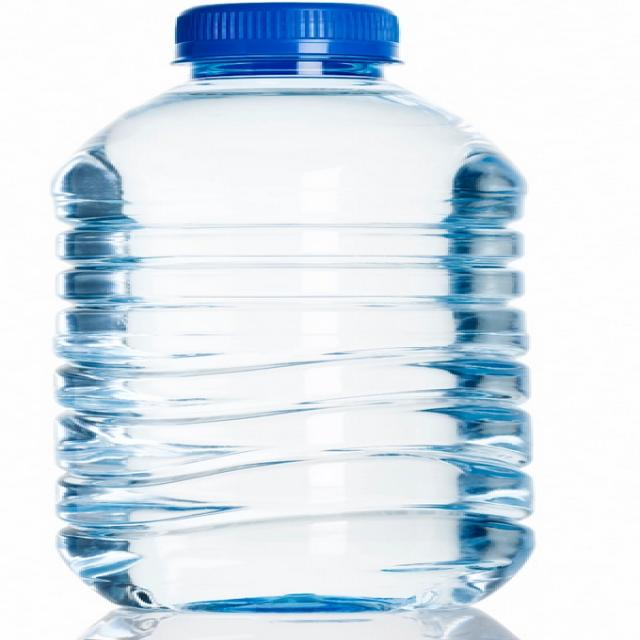Plastic Bottle: (17, 3, 555, 624)
